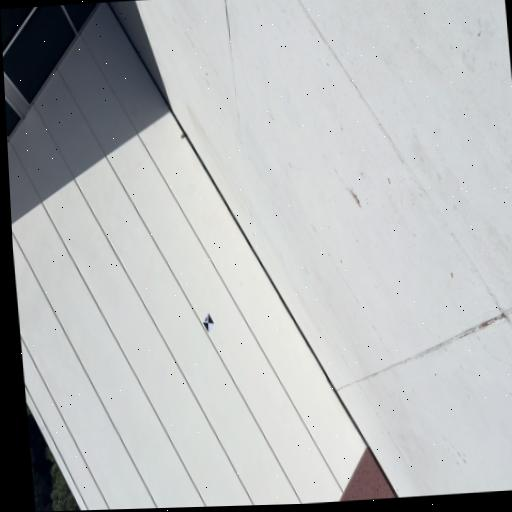target4: (202, 312, 214, 333)
